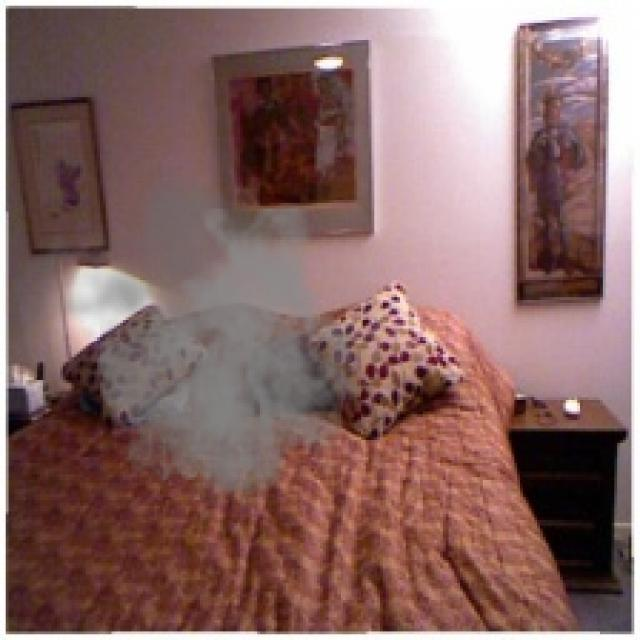smoke: (3, 166, 363, 520)
